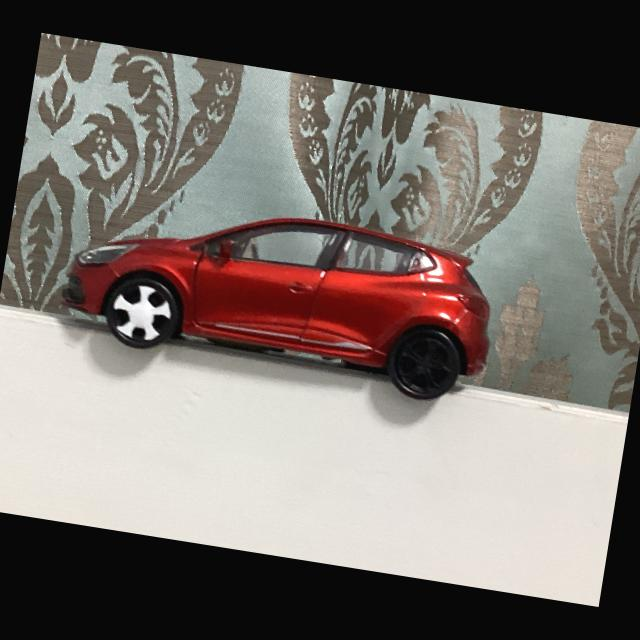Dogru_Jant: (395, 332, 458, 393)
Yanlis_Jant: (108, 282, 176, 344)
